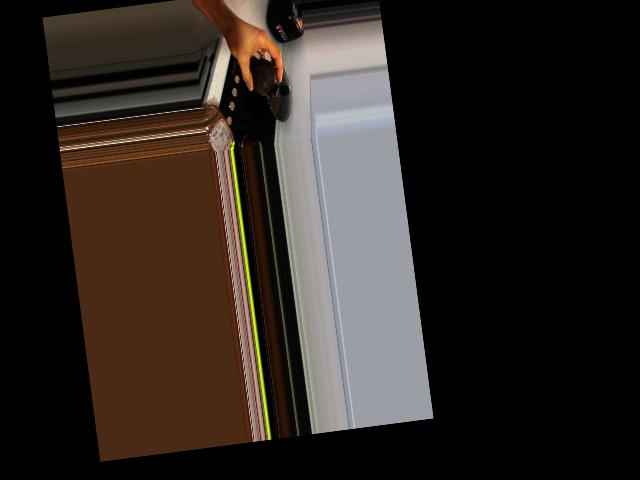beet: (249, 55, 279, 100)
